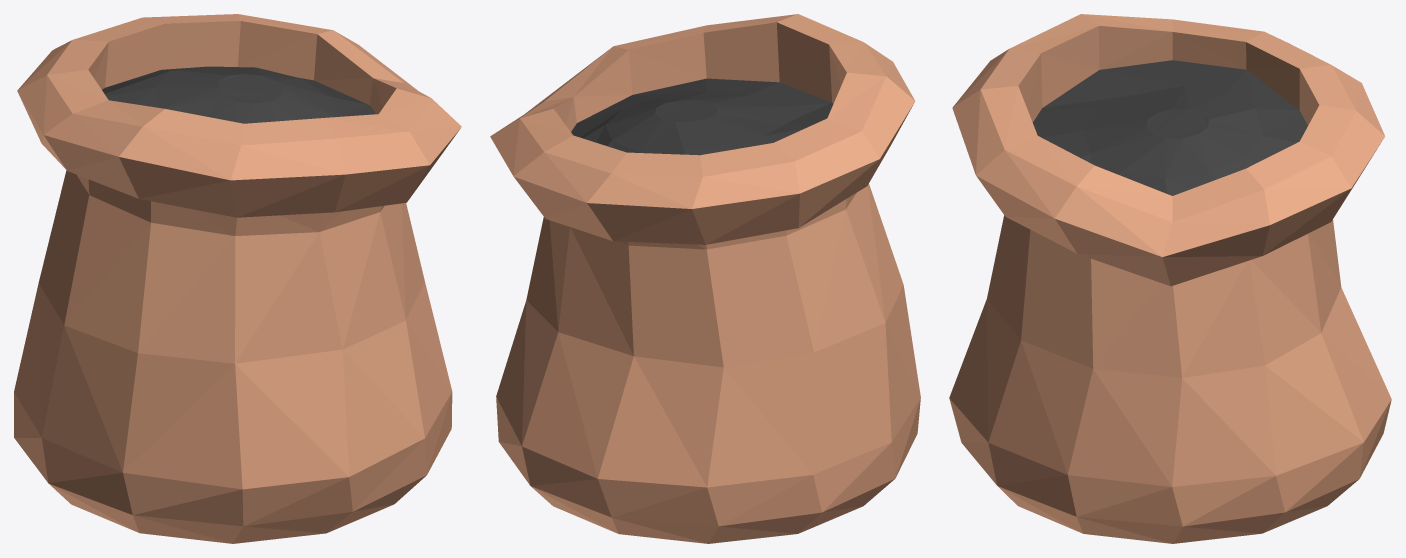
The model's file is Bag_2.fbx.
3 renders of one model, left to right at view 1: azimuth 30°, elevation 25°; view 2: azimuth 150°, elevation 25°; view 3: azimuth 270°, elevation 25°, orthographic. The views are drawn at different scales.
Parts seen in each view (by area): view 1: Bag_2; view 2: Bag_2; view 3: Bag_2.
Part boxes in pixels (left/top/right/bottom): Bag_2: left=14, top=14, right=461, bottom=543; Bag_2: left=490, top=14, right=920, bottom=543; Bag_2: left=949, top=14, right=1391, bottom=543.
Bounding box in the file's own units: 0.6191 × 0.6248 × 0.6376.
